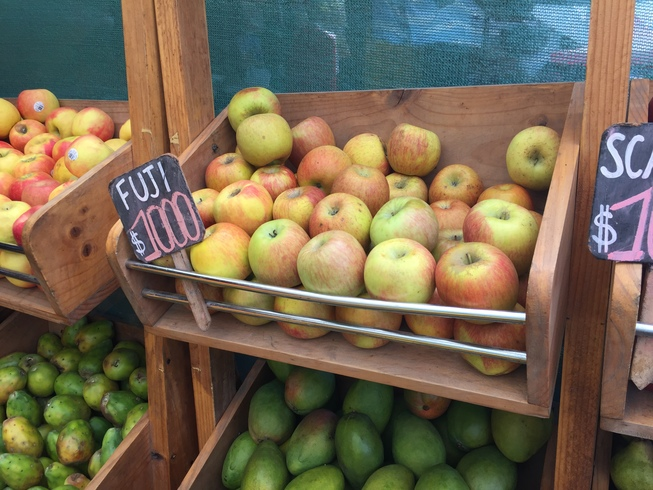precio: (106, 159, 206, 263), (589, 122, 653, 263)
